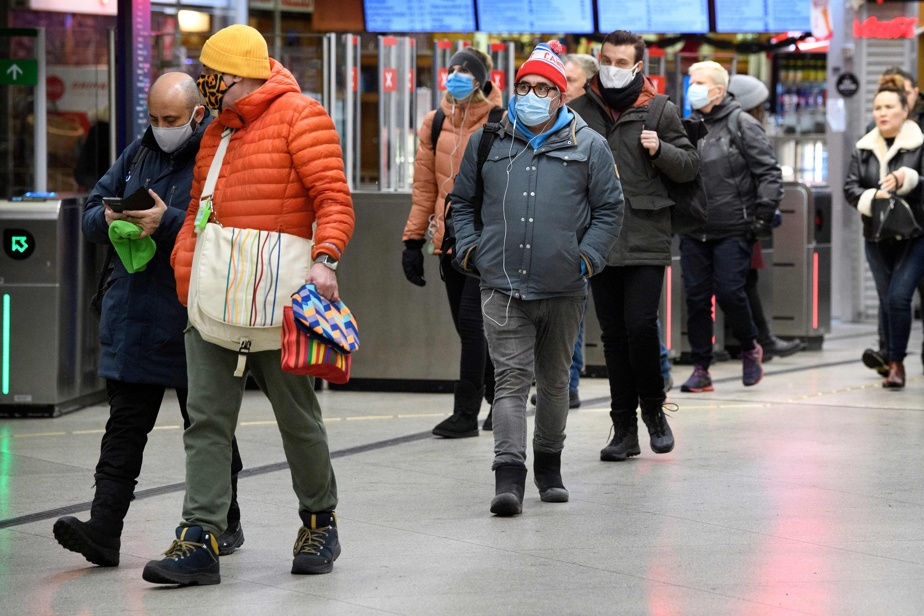with_mask: (193, 55, 257, 118), (146, 89, 195, 151), (509, 74, 564, 128), (594, 47, 638, 91), (445, 56, 486, 103), (684, 67, 721, 110)
without_mask: (870, 99, 899, 136)
